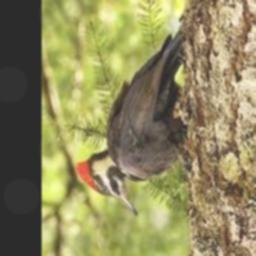Woodpecker: (76, 30, 188, 217)
